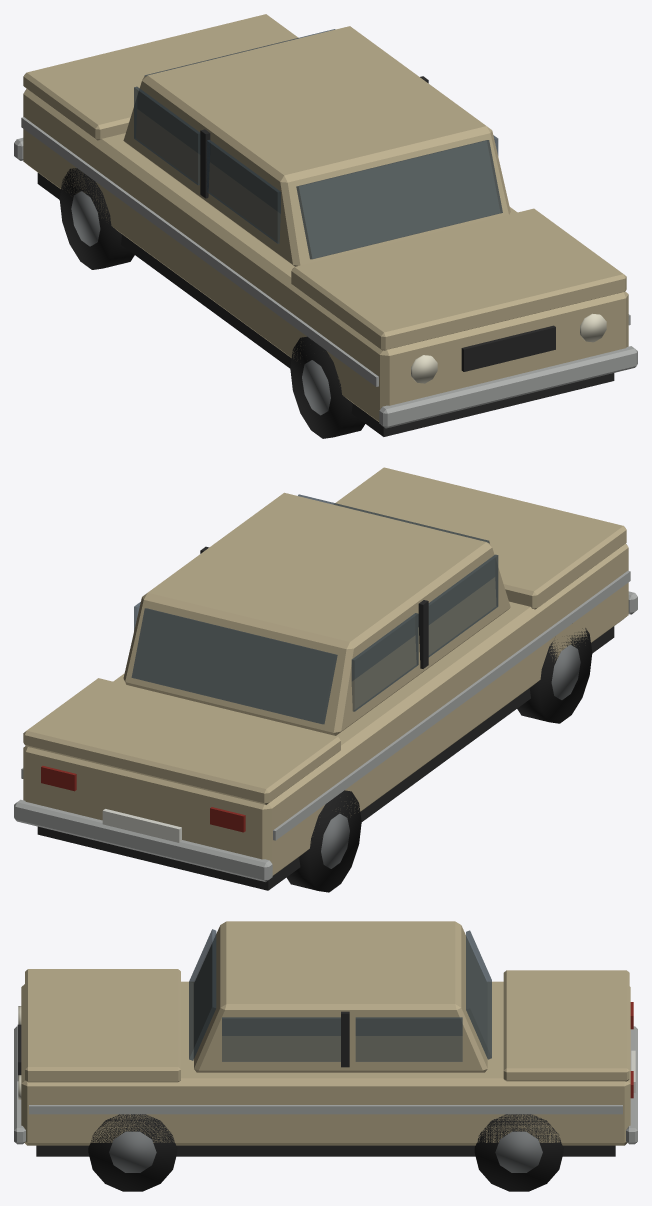
Rendered from car_beige.glb.
3 views of the same model, one above another, from view 1: azimuth 30°, elevation 25°; view 2: azimuth 150°, elevation 25°; view 3: azimuth 270°, elevation 25° (orthographic). The views are drawn at different scales.
Visible parts, largest first — view 1: Car; view 2: Car; view 3: Car.
Boxes of the visible parts, bbox=[...] form: Car: bbox=[14, 14, 637, 438]; Car: bbox=[14, 467, 637, 892]; Car: bbox=[14, 921, 637, 1191].
Bounding box in the file's own units: 1.66 × 1.32 × 4.2.
